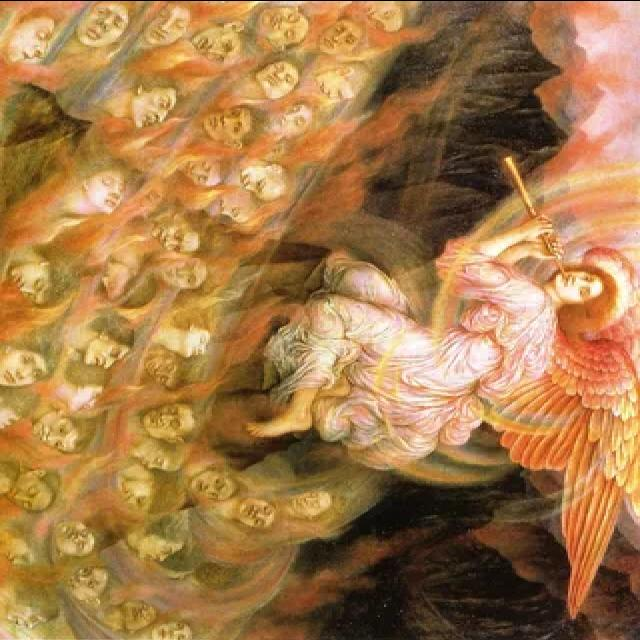angel: (253, 127, 640, 615)
